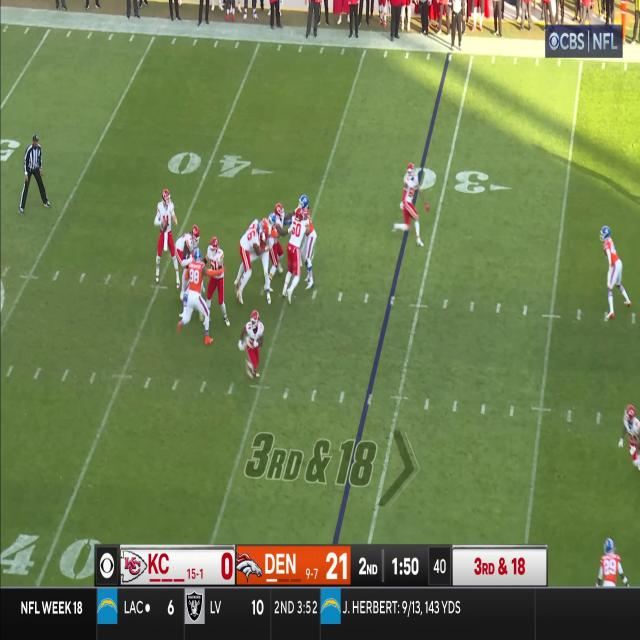Player: (177, 249, 223, 346), (154, 186, 179, 286), (235, 220, 262, 304), (601, 224, 623, 322), (595, 534, 631, 588), (237, 311, 265, 379), (285, 209, 305, 302), (402, 163, 420, 248), (208, 236, 225, 323), (302, 196, 316, 292), (269, 201, 285, 285), (262, 213, 275, 303), (176, 224, 200, 253)
Referee: (18, 134, 51, 214)
